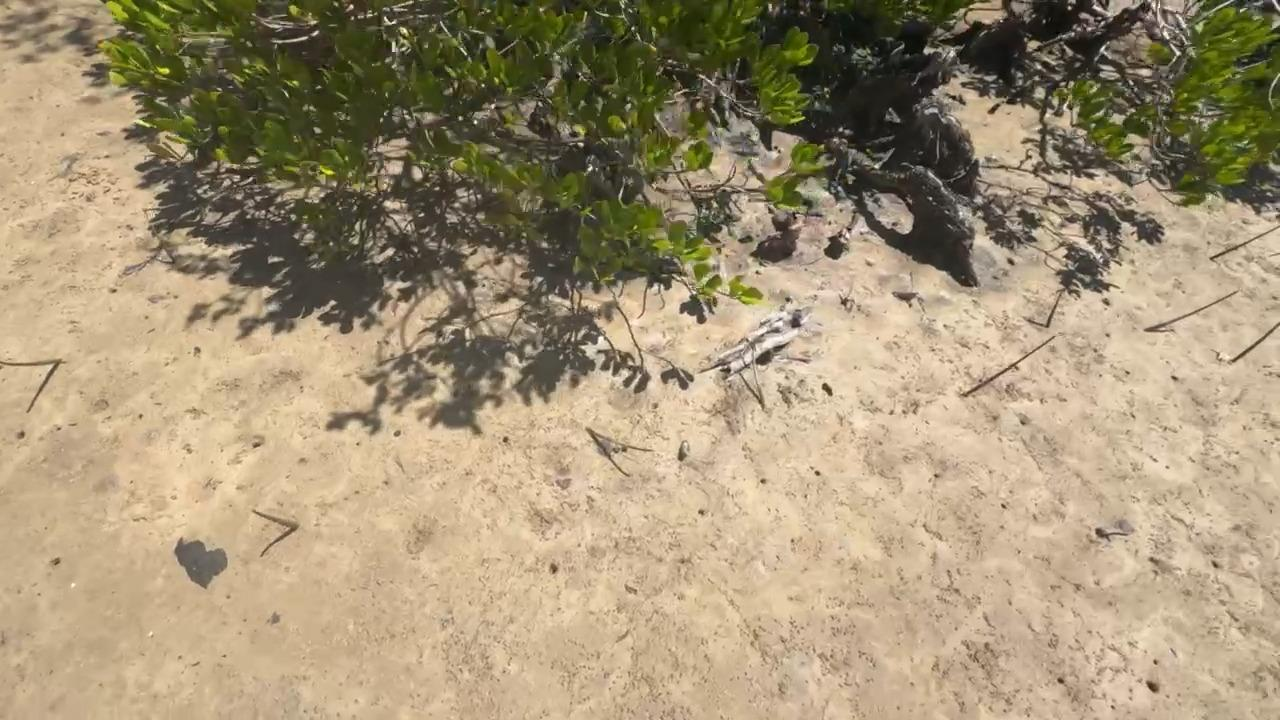Tree: (965, 335, 1059, 396), (1145, 290, 1240, 331), (1211, 227, 1279, 260), (1230, 321, 1280, 365), (587, 428, 655, 452), (249, 509, 298, 529), (1046, 291, 1063, 327), (0, 360, 61, 366)
